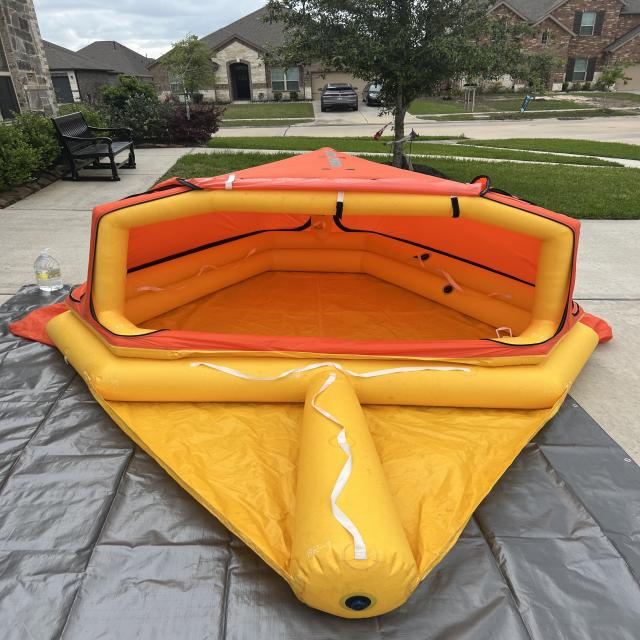Multi-person_life_raft: (7, 148, 613, 619)
